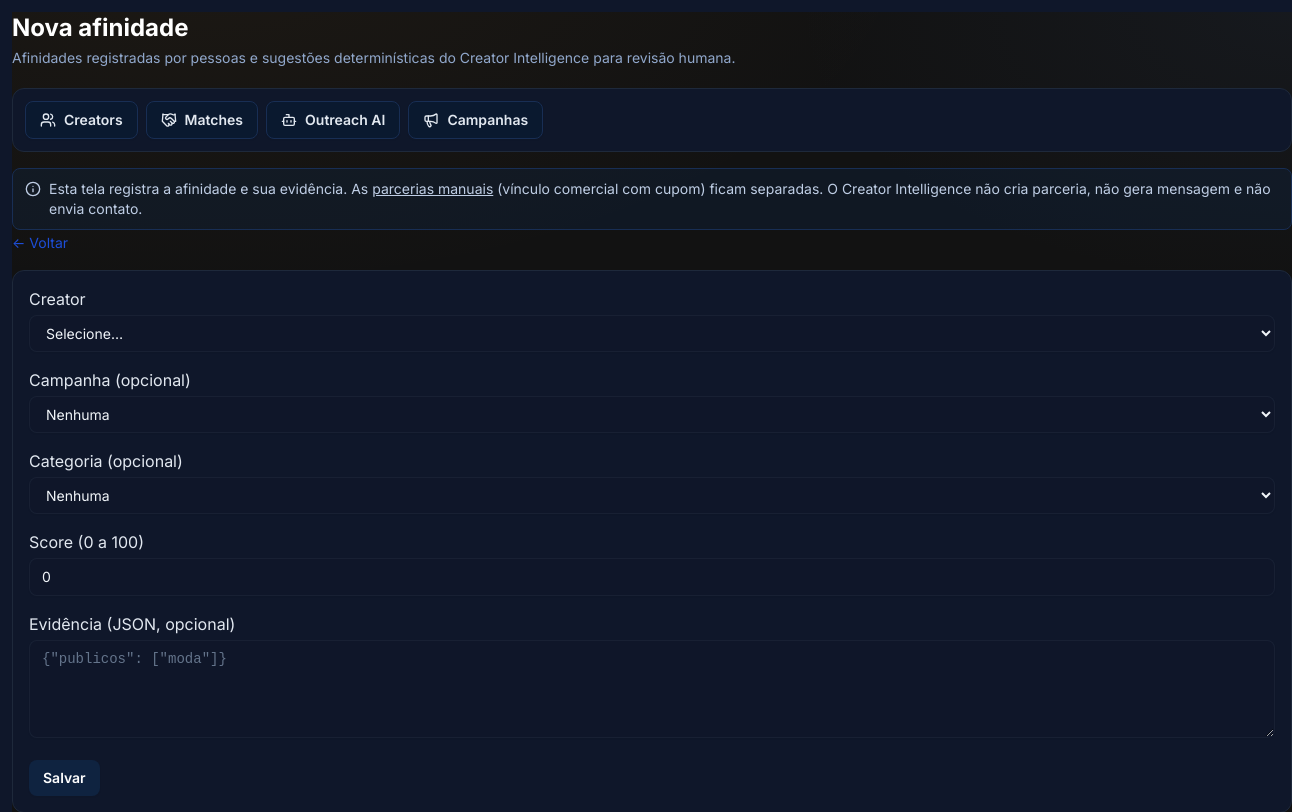
Test case: Matches — afinidade real registrada por pessoa, ZERO MODAL › rejeita evidência que não é objeto JSON, sem gravar
The image size is (1292, 812).
Select "Ana" in the dropdown labelled "Creator" at (652, 334), box [29,315,1275,352]
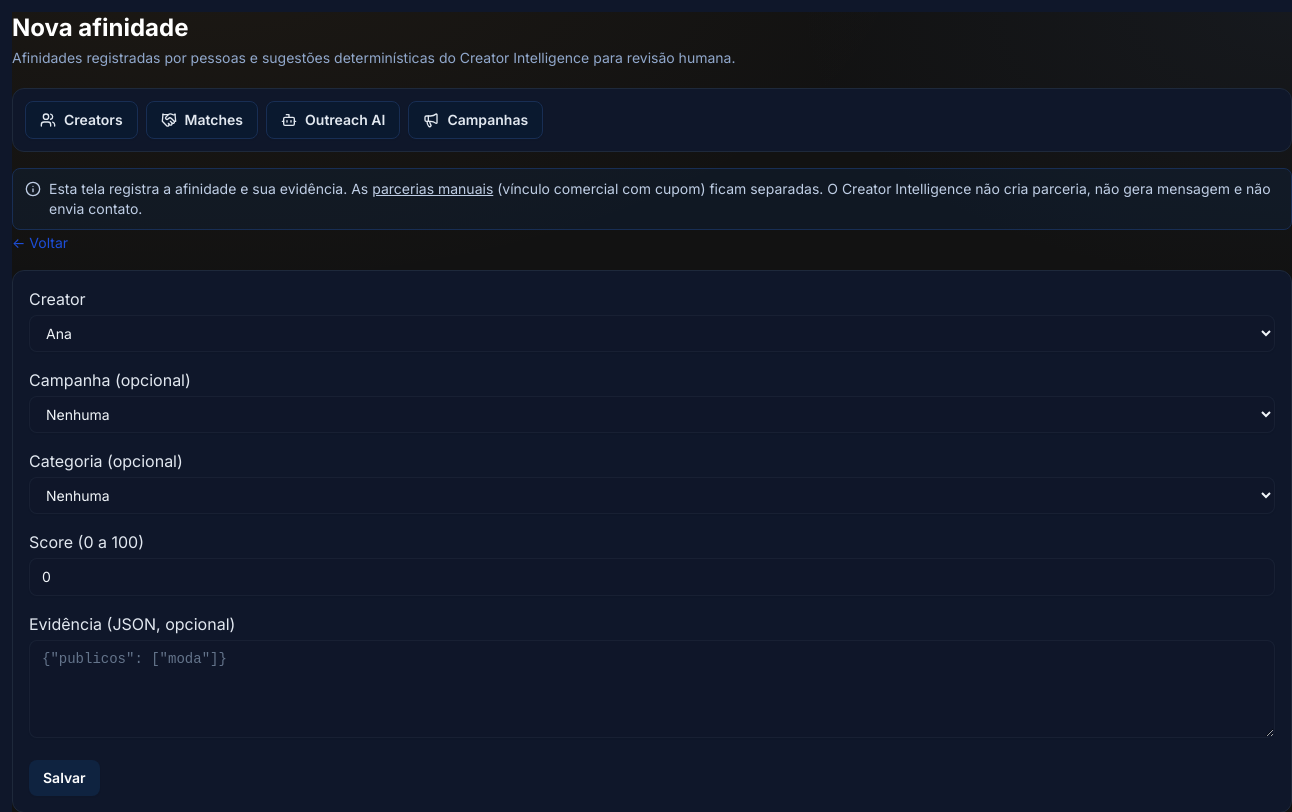
Type "[1,2]" into the text box labelled "Evidência (JSON, opcional)" at (652, 689), box [29,640,1275,738]
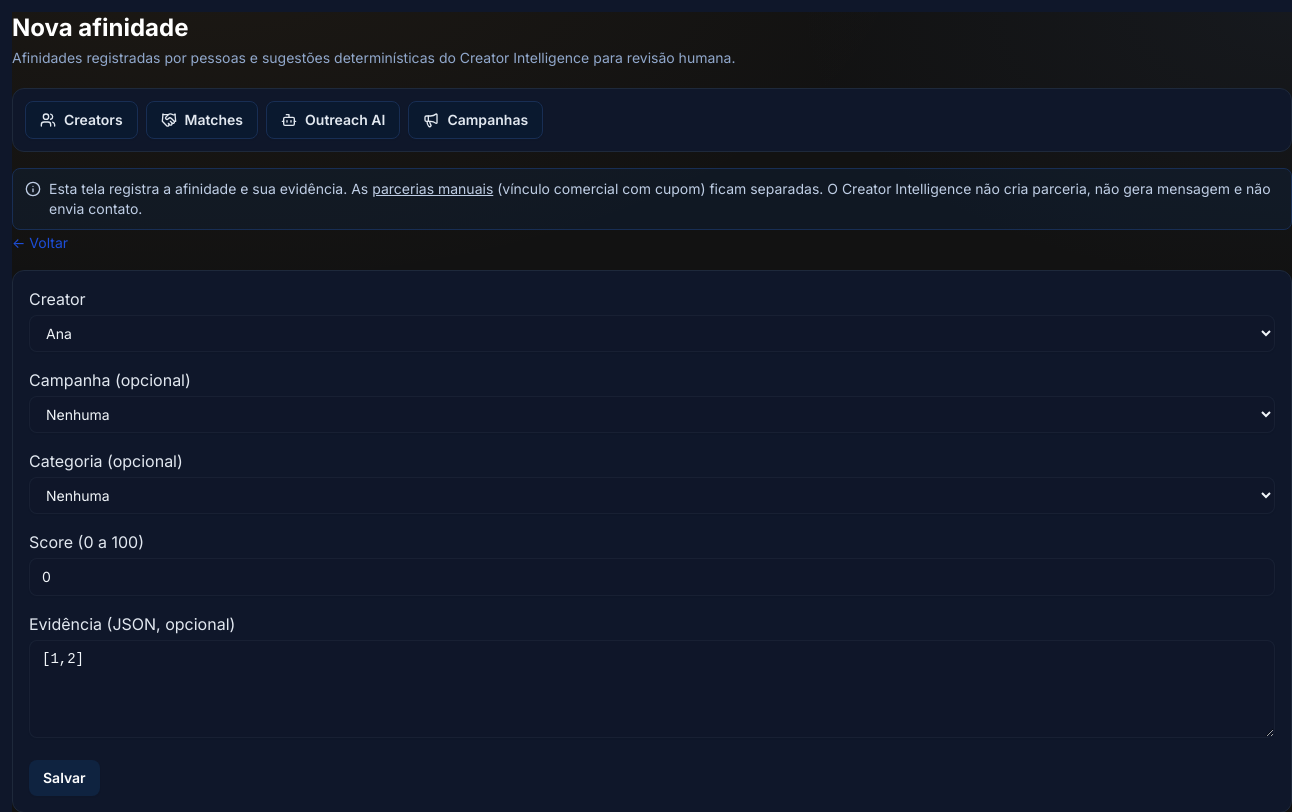
Click the button "Salvar" at (64, 778), box [29,760,100,796]
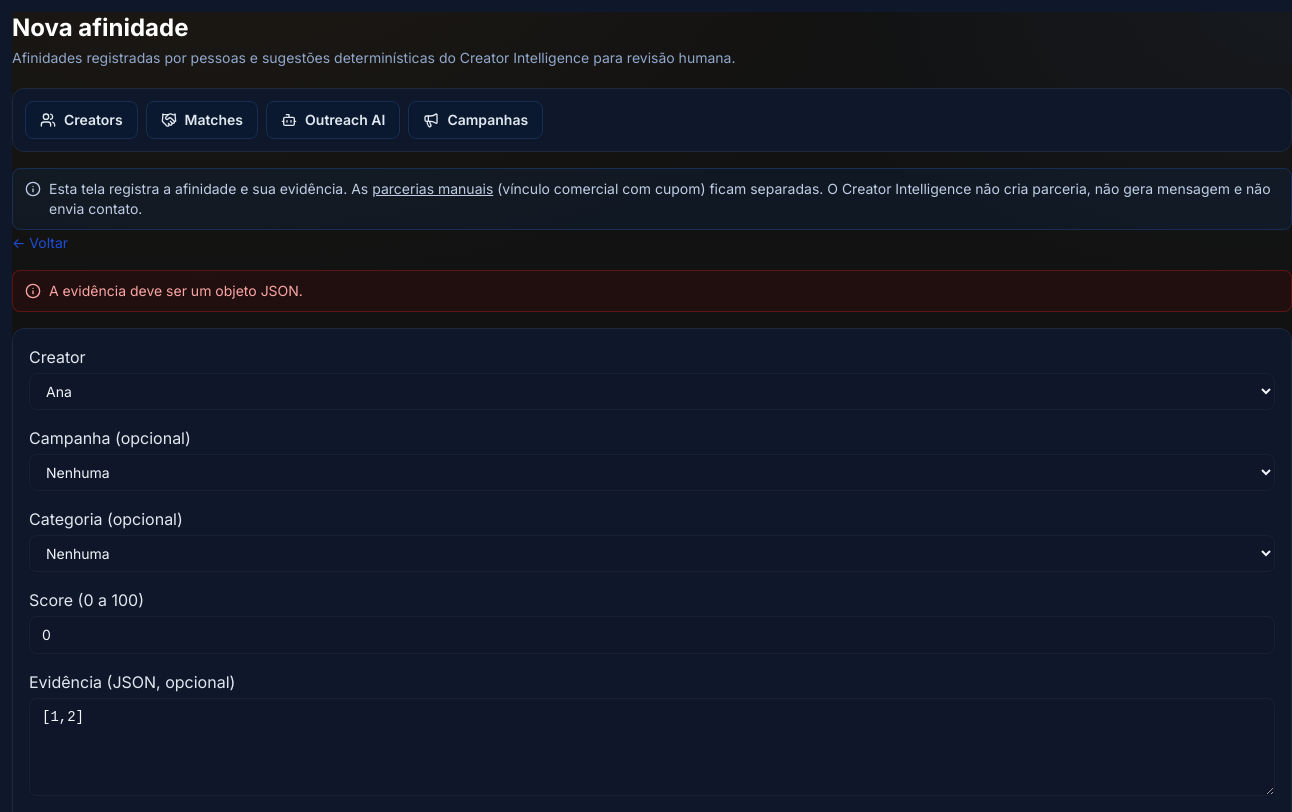
Expected: the text "A evidência deve ser um objeto JSON." is shown, [49,281,303,301]
